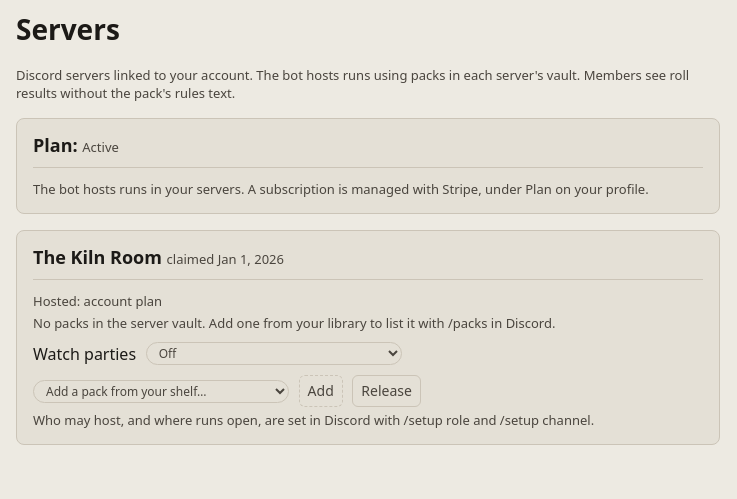
Test case: the watch party setting on a server › says so where the setting could not be saved
Step 1. Select "Every run" in the dropdown labelled "Watch parties" → (274,354), box [146,342,402,365]
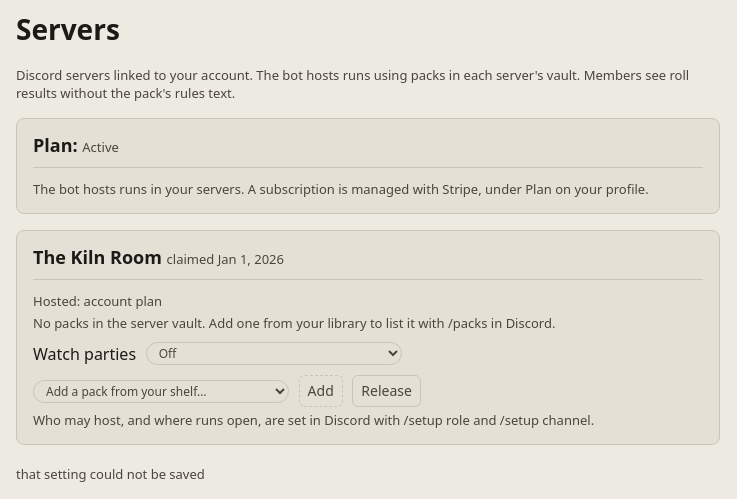
Result: the message reads "that setting could not be saved" at [16,465,205,483]
